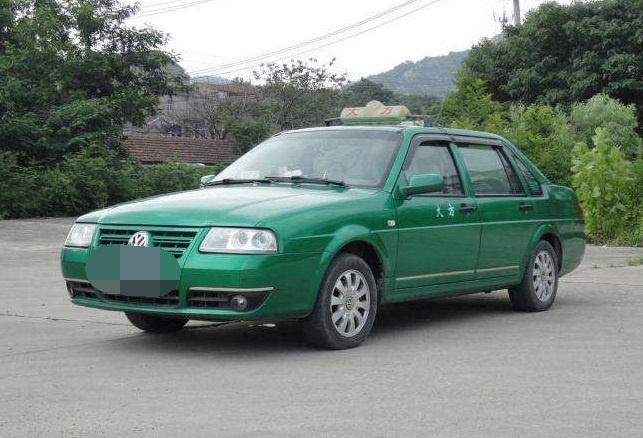taxi: (62, 103, 598, 357)
